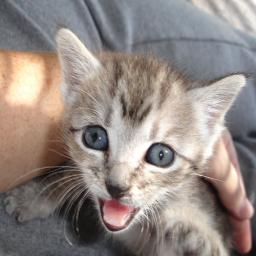catnose: (105, 176, 132, 200)
